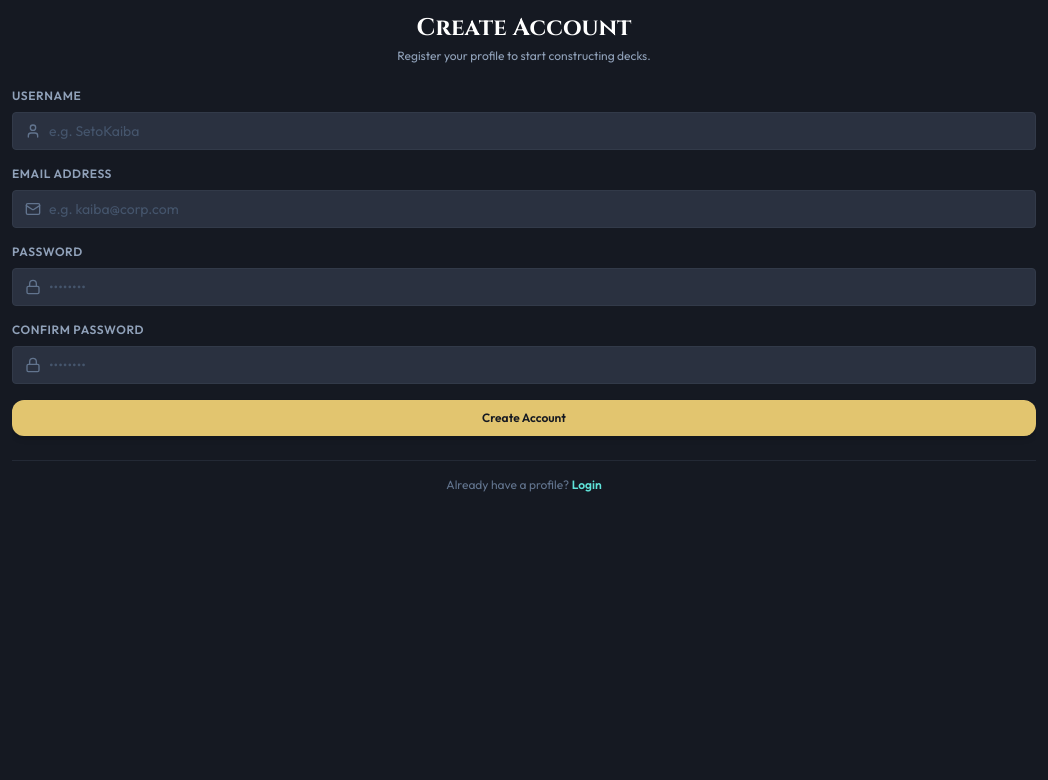
it: Register page component › should block submission if passwords do not match
Step 1. Type "yugi" into the field with placeholder "e.g. SetoKaiba" → (536, 131), box x1=49 y1=121 x2=1023 y2=141
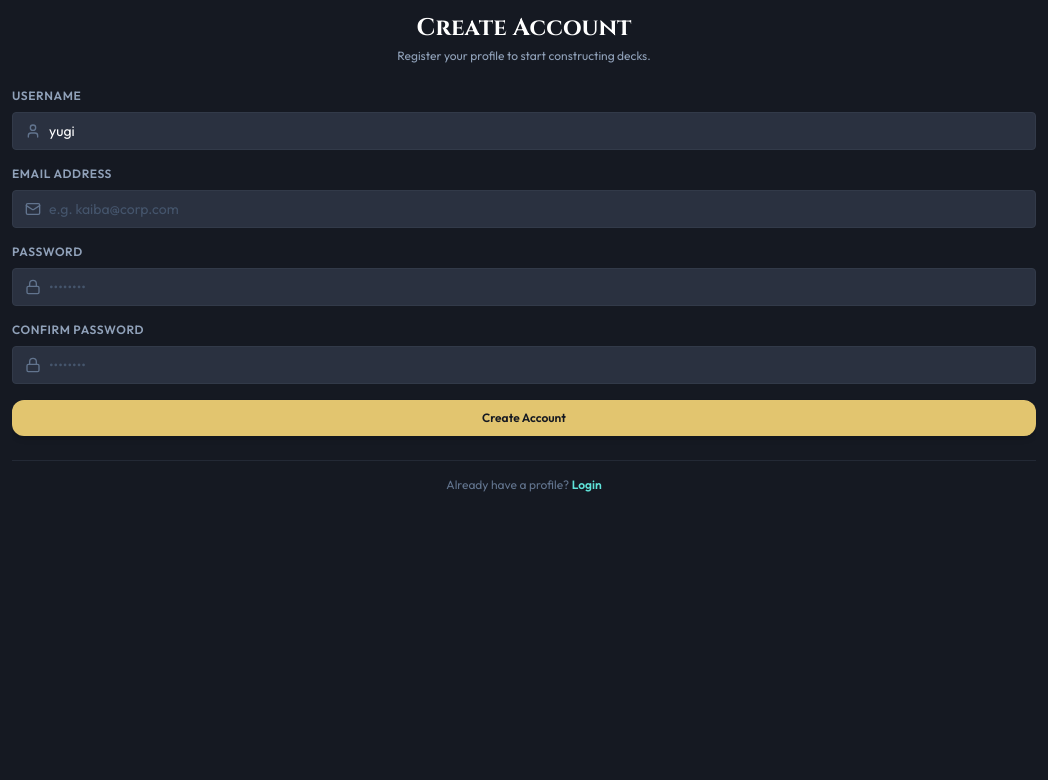
Step 2. Type "yugi@mutou.com" into the field with placeholder "e.g. kaiba@corp.com" → (536, 209), box x1=49 y1=199 x2=1023 y2=219
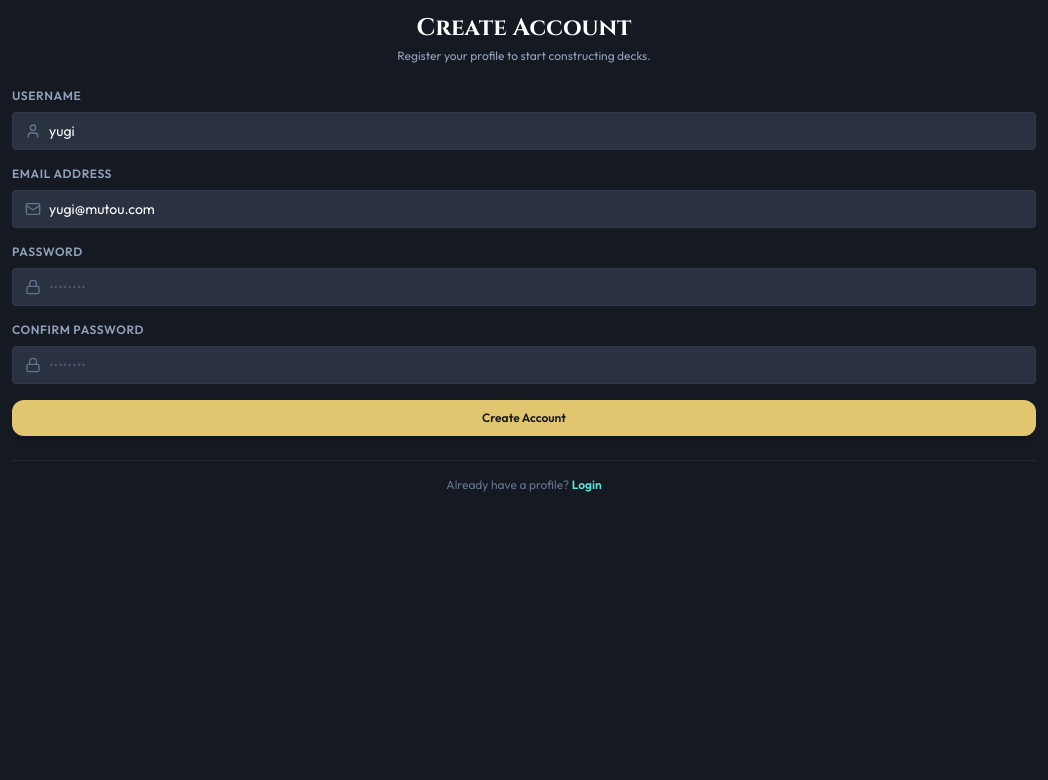
Step 3. Type "pass1" into the 1st password field with placeholder "••••••••" → (536, 287), box x1=49 y1=277 x2=1023 y2=297
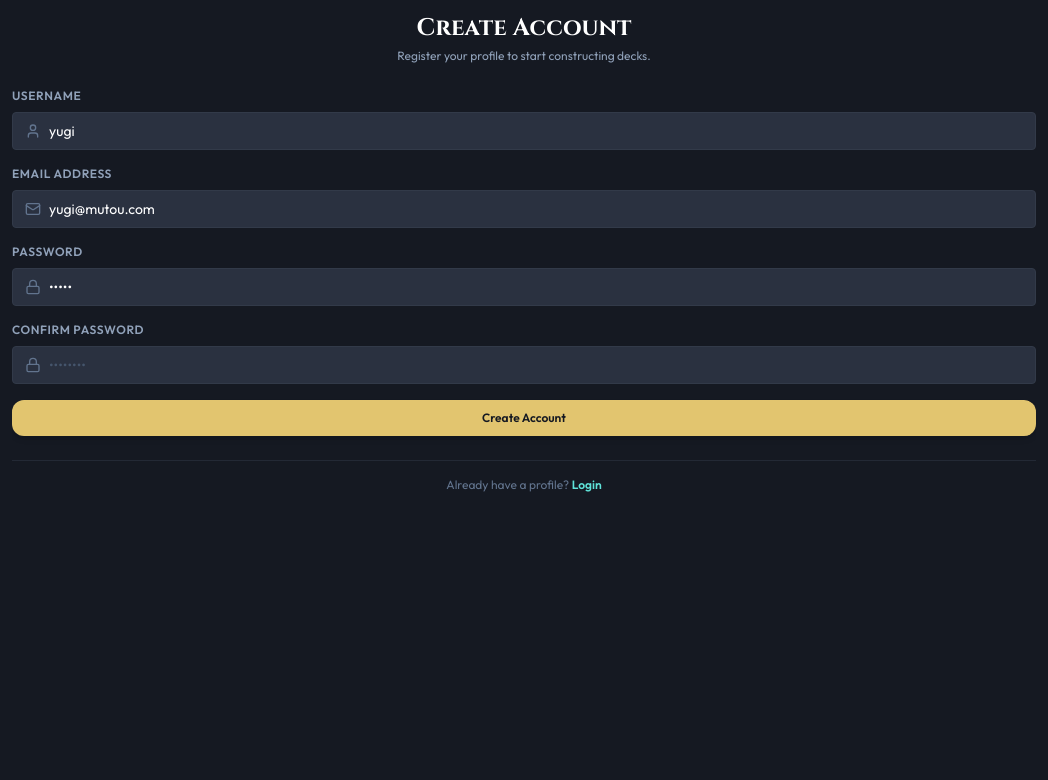
Step 4. Type "pass2" into the password field with placeholder "••••••••" → (536, 365), box x1=49 y1=355 x2=1023 y2=375
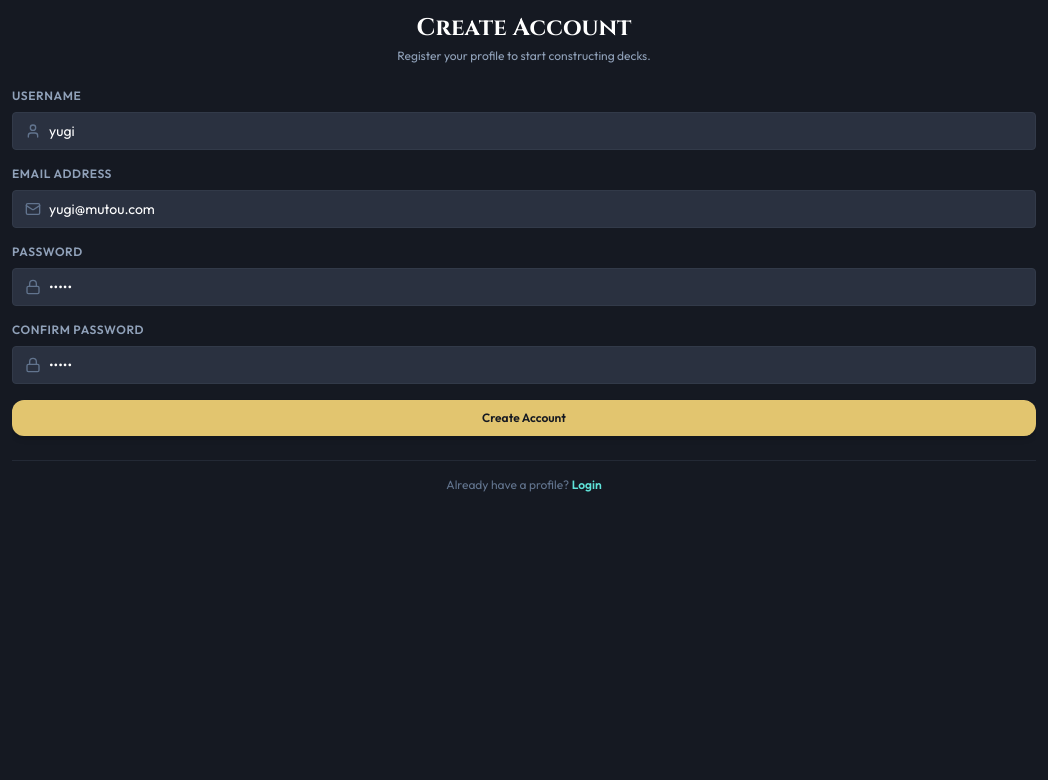
Step 5. Click the button "Create Account" → click(524, 418), box x1=12 y1=400 x2=1036 y2=436
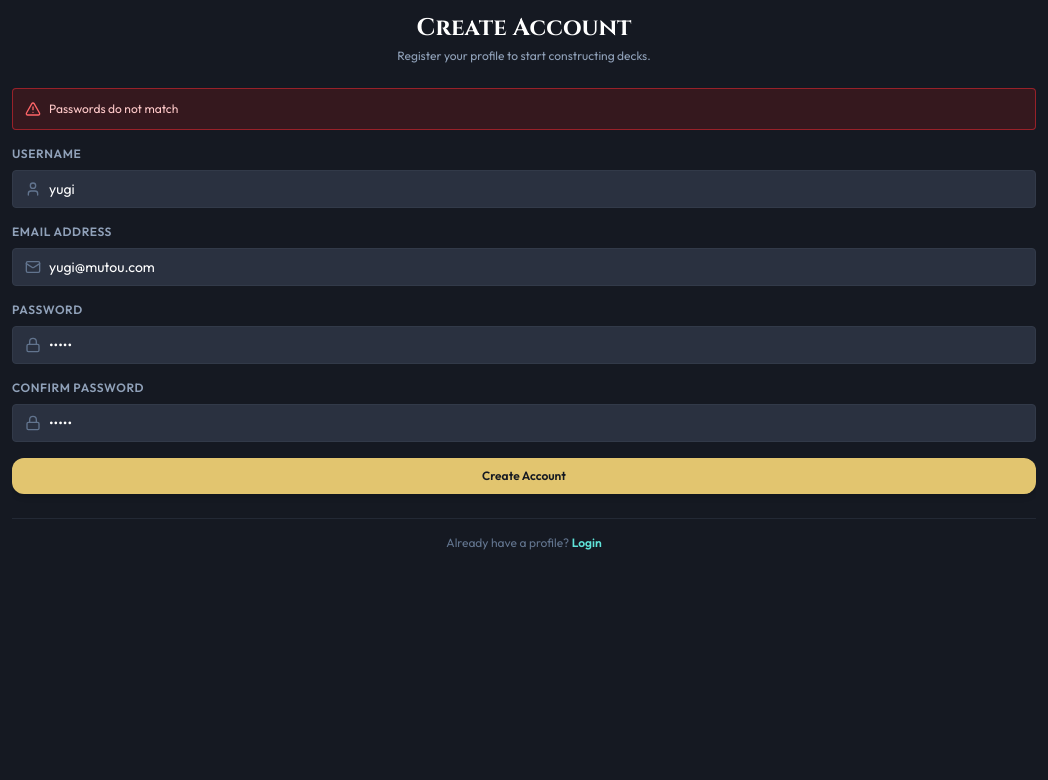
Expected: the text "Passwords do not match" is shown, x1=49 y1=101 x2=178 y2=117
